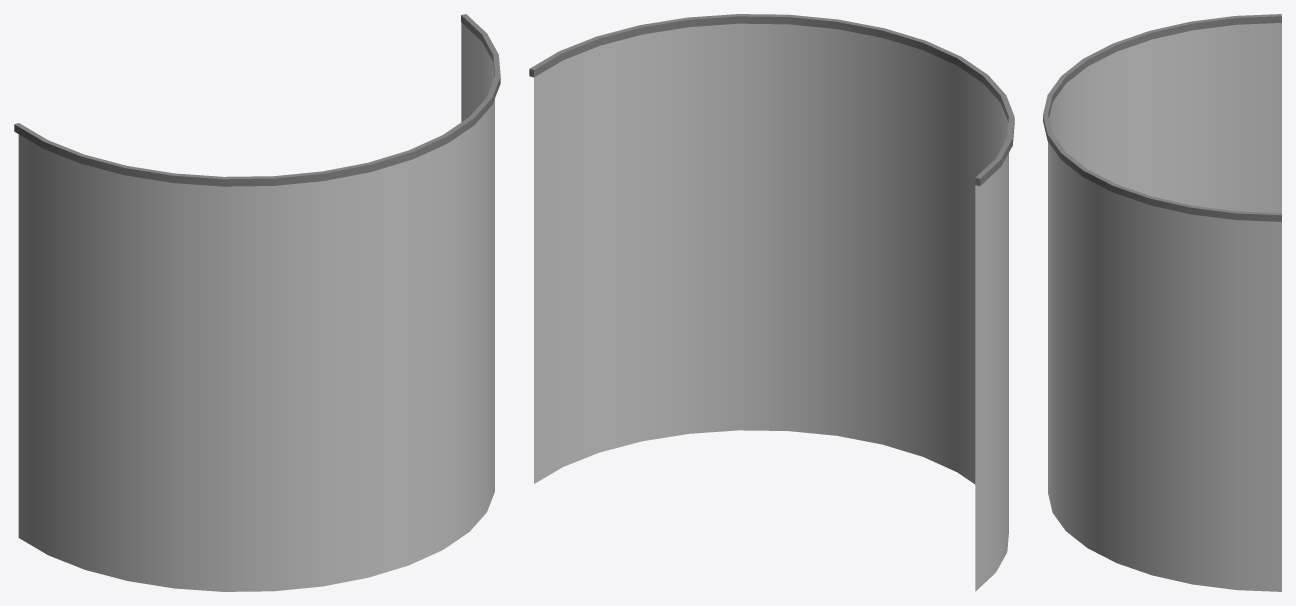
Rendered from Charger_Glass.fbx.
3 views of the same model, side by side, from view 1: azimuth 30°, elevation 25°; view 2: azimuth 150°, elevation 25°; view 3: azimuth 270°, elevation 25° (orthographic). The views are drawn at different scales.
Visible parts, largest first — view 1: Cylinder; view 2: Cylinder; view 3: Cylinder.
Part boxes in pixels (bbox=[...]): Cylinder: bbox=[14, 14, 500, 591]; Cylinder: bbox=[529, 14, 1014, 591]; Cylinder: bbox=[1043, 14, 1281, 591].
Size of the model in its own units: 92.59 by 81.25 by 46.45.
